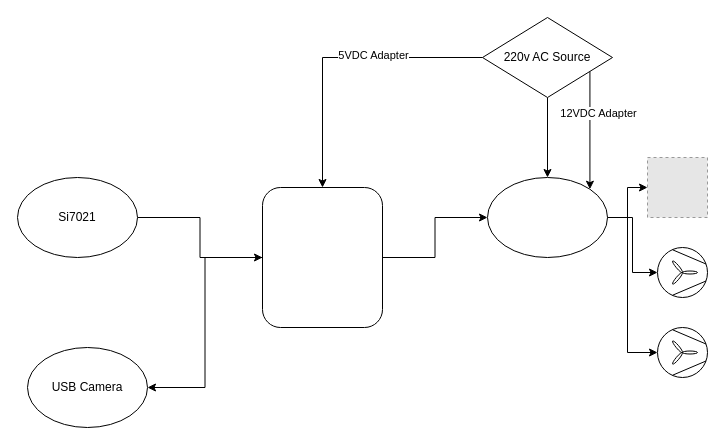
Image size: 725x445. Some labels were removed from this diagram. Grey dashed boxes stand in for pictures. The centre of each missing label's shape, as x and y in pixels:
4 Channel Relay: point 547,217
Raspberry Pi 3B+ * NodeRED *Mosquitto MQTT *Senosr Control FW *Systemd Service: point 322,257
